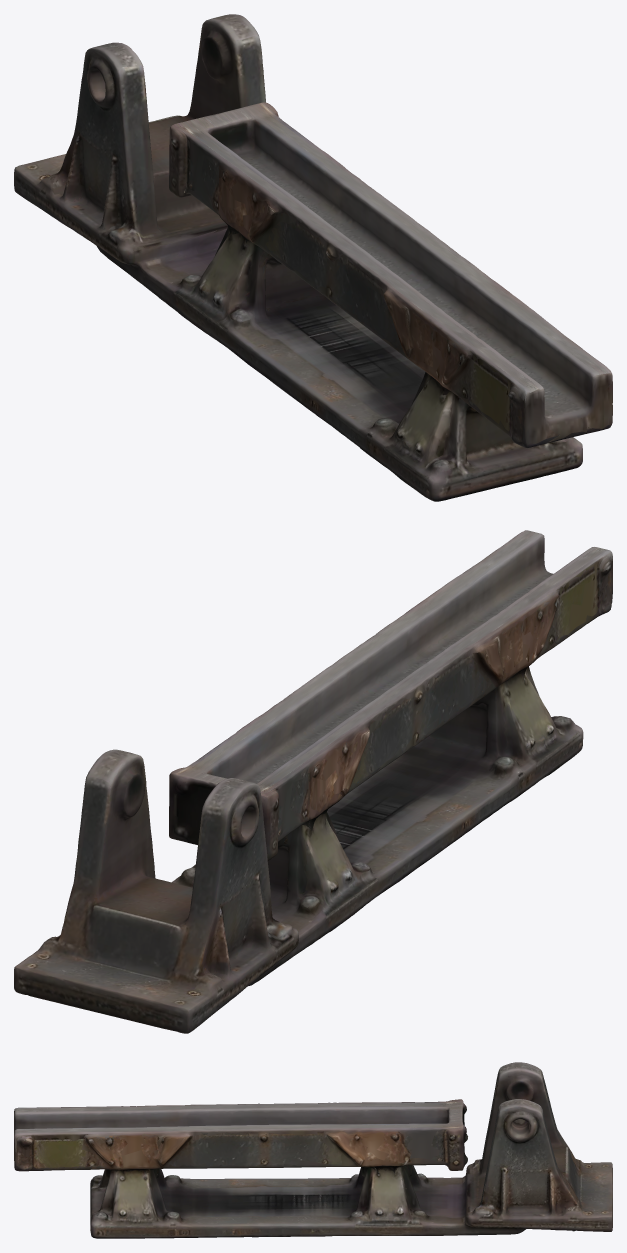
The model's file is arponero_lanzador.glb.
3 views of the same model, one above another, from view 1: azimuth 30°, elevation 25°; view 2: azimuth 150°, elevation 25°; view 3: azimuth 270°, elevation 25° (orthographic). The views are drawn at different scales.
Parts seen in each view (by area): view 1: input; view 2: input; view 3: input.
Boxes of the visible parts, left/top/right/bottom form: input: left=14, top=14, right=612, bottom=501; input: left=14, top=530, right=612, bottom=1033; input: left=14, top=1062, right=612, bottom=1238.
Bounding box in the file's own units: 0.5252 × 0.5874 × 2.4.
Materials: 1 (1 with a texture image).
